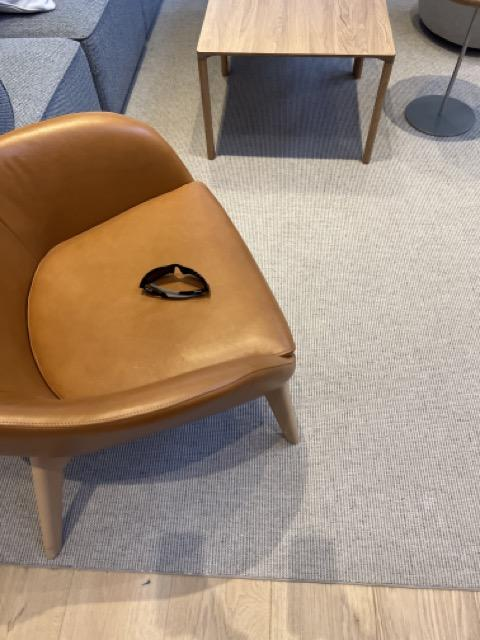Sunglasses: (140, 262, 211, 301)
